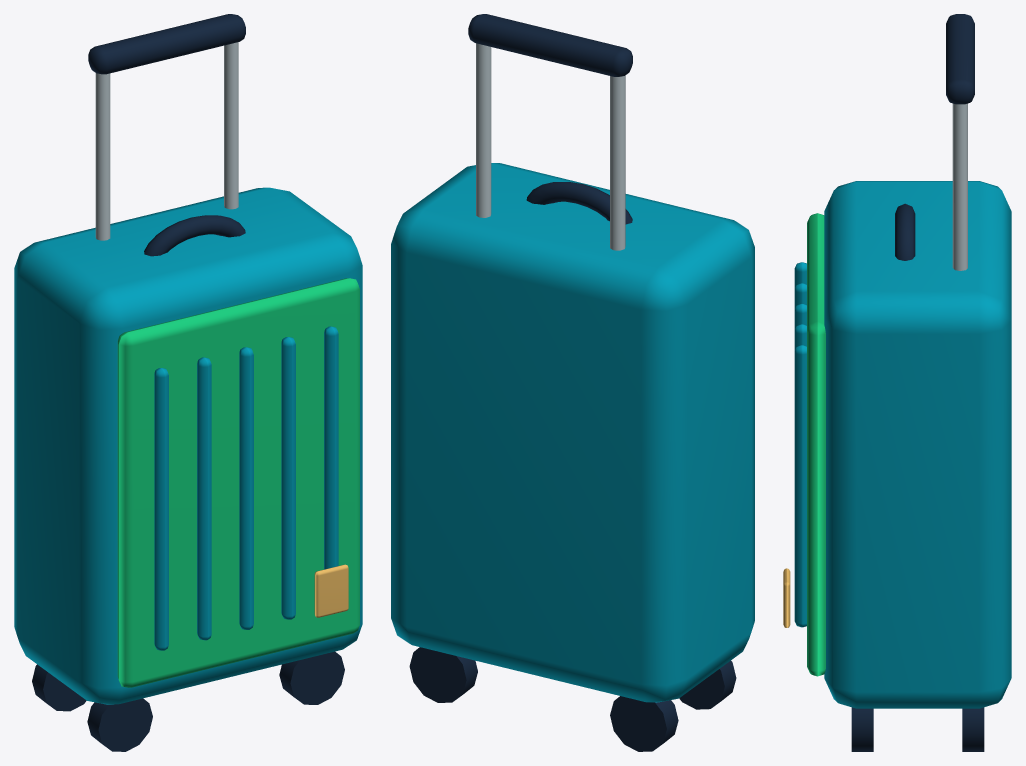
Rendered from 03_Roller_Suitcase.glb.
3 views of the same model, side by side, from view 1: azimuth 30°, elevation 25°; view 2: azimuth 150°, elevation 25°; view 3: azimuth 270°, elevation 25° (orthographic). The views are drawn at different scales.
Visible parts, largest first — view 1: 03_Roller_Suitcase_EXPORT; view 2: 03_Roller_Suitcase_EXPORT; view 3: 03_Roller_Suitcase_EXPORT.
Boxes of the visible parts, bbox=[...] form: 03_Roller_Suitcase_EXPORT: bbox=[14, 14, 362, 751]; 03_Roller_Suitcase_EXPORT: bbox=[391, 14, 754, 751]; 03_Roller_Suitcase_EXPORT: bbox=[783, 14, 1011, 751].
Size of the model in its own units: 0.76 by 1.7 by 0.536.
